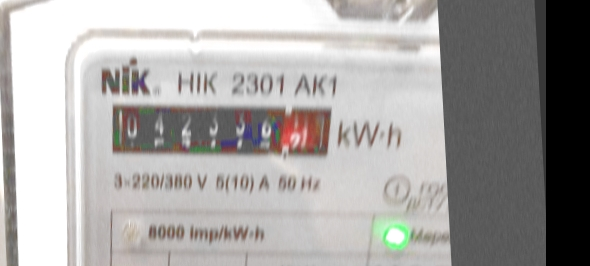0: (125, 110, 140, 140)
2: (177, 109, 197, 137)
3: (204, 108, 222, 138), (233, 108, 249, 136)
4: (151, 110, 169, 138)
6: (259, 112, 275, 140)
screen: (99, 83, 343, 176)
